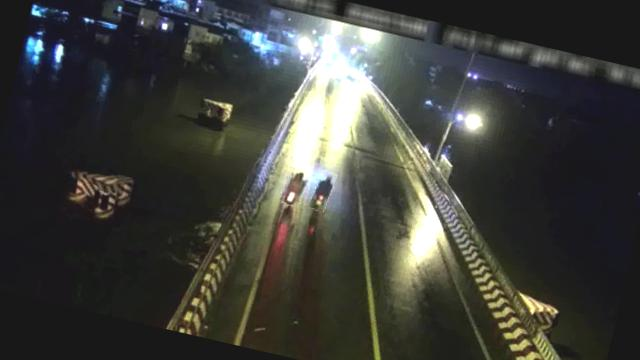Bike: (279, 166, 310, 209), (309, 169, 336, 213)
